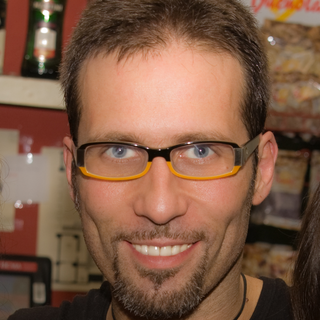eye: (92, 140, 142, 163), (173, 139, 217, 162)
